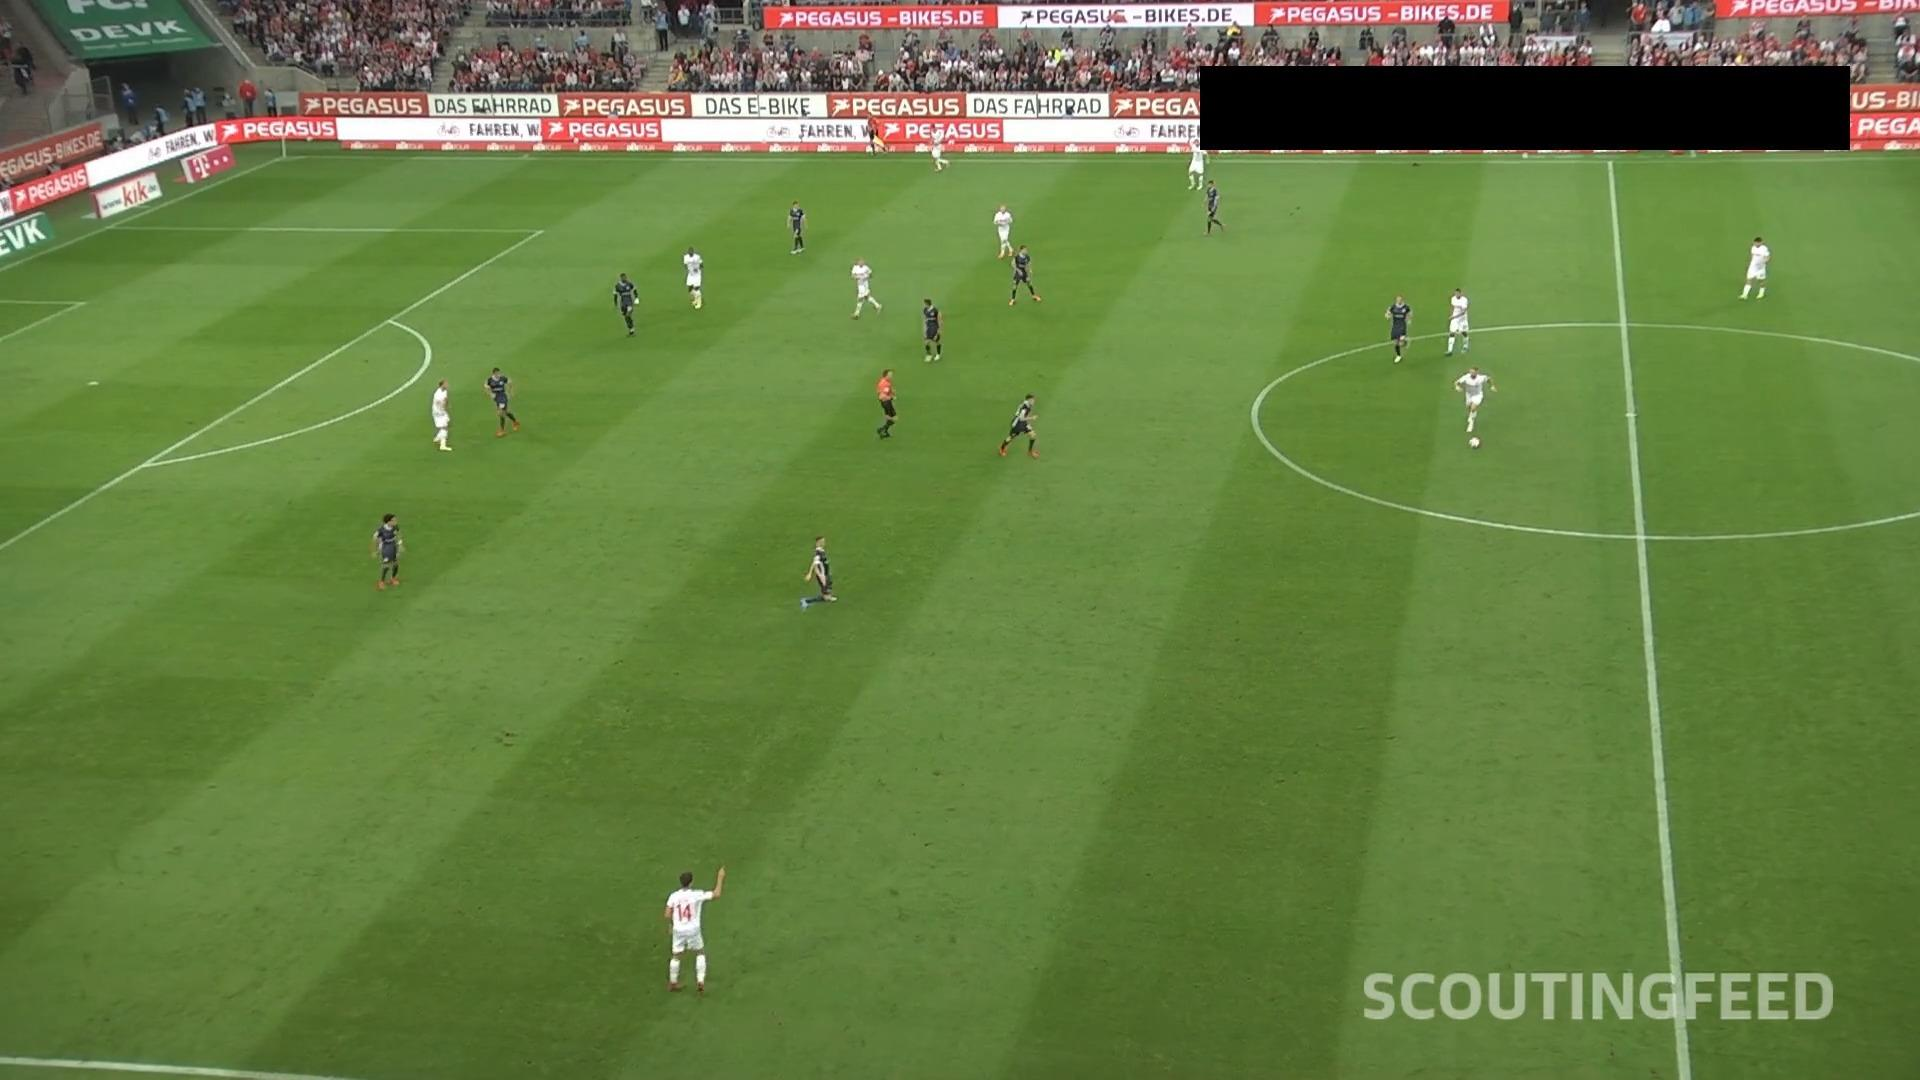ball: (1468, 435, 1481, 450)
